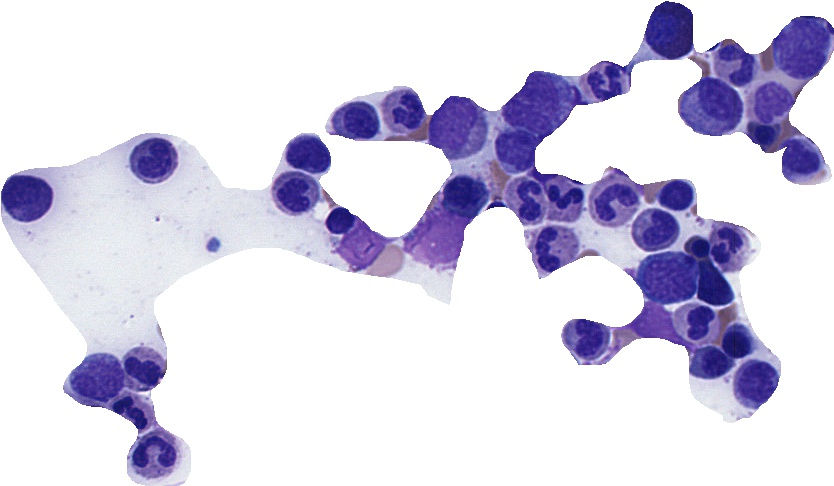objectness: (522, 226, 572, 276), (118, 343, 168, 393), (705, 224, 755, 274), (712, 38, 762, 88), (504, 174, 554, 224), (106, 386, 156, 436), (581, 59, 631, 109), (129, 429, 179, 479), (539, 174, 589, 224), (381, 88, 431, 138), (667, 298, 717, 348), (587, 176, 637, 226), (1, 173, 51, 223), (439, 108, 489, 158), (645, 6, 695, 56), (629, 206, 679, 256), (272, 168, 322, 218), (130, 138, 180, 188), (562, 316, 612, 366), (516, 79, 566, 129), (644, 250, 694, 300), (778, 23, 828, 73), (72, 351, 122, 401), (490, 126, 540, 176), (689, 259, 739, 309), (744, 76, 794, 126), (776, 135, 826, 185), (673, 223, 723, 273), (335, 220, 385, 270), (629, 293, 679, 343), (313, 196, 363, 246), (412, 211, 462, 261), (730, 358, 780, 408), (332, 96, 382, 146), (282, 130, 332, 180), (650, 170, 700, 220), (740, 109, 790, 159), (439, 170, 489, 220), (713, 316, 763, 366), (684, 336, 734, 386), (685, 81, 735, 131)
